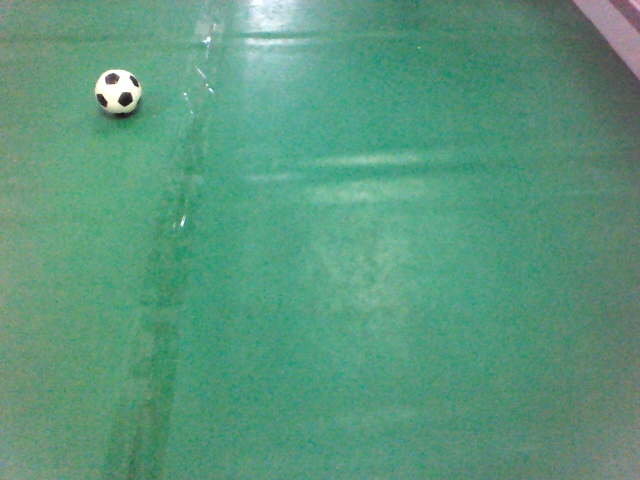ball: (89, 66, 143, 117)
